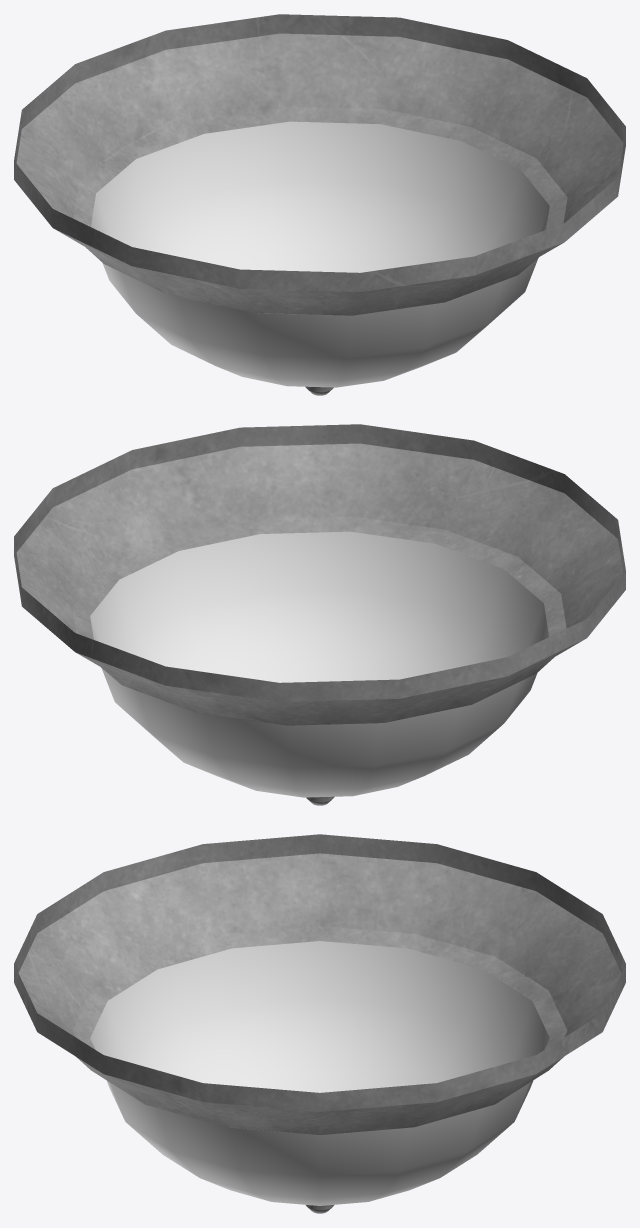
The model's file is SM_Lightceiling.fbx.
The picture shows the model from 3 angles, top to bottom: view 1: azimuth 30°, elevation 25°; view 2: azimuth 150°, elevation 25°; view 3: azimuth 270°, elevation 25°; orthographic projection.
Parts seen in each view (by area): view 1: SM_Lightceiling; view 2: SM_Lightceiling; view 3: SM_Lightceiling.
Boxes of the visible parts, x1=… form: SM_Lightceiling: x1=14, y1=14, x2=625, y2=395; SM_Lightceiling: x1=14, y1=424, x2=625, y2=805; SM_Lightceiling: x1=14, y1=834, x2=625, y2=1213.
Size of the model in its own units: 37.46 by 16.65 by 37.46.
